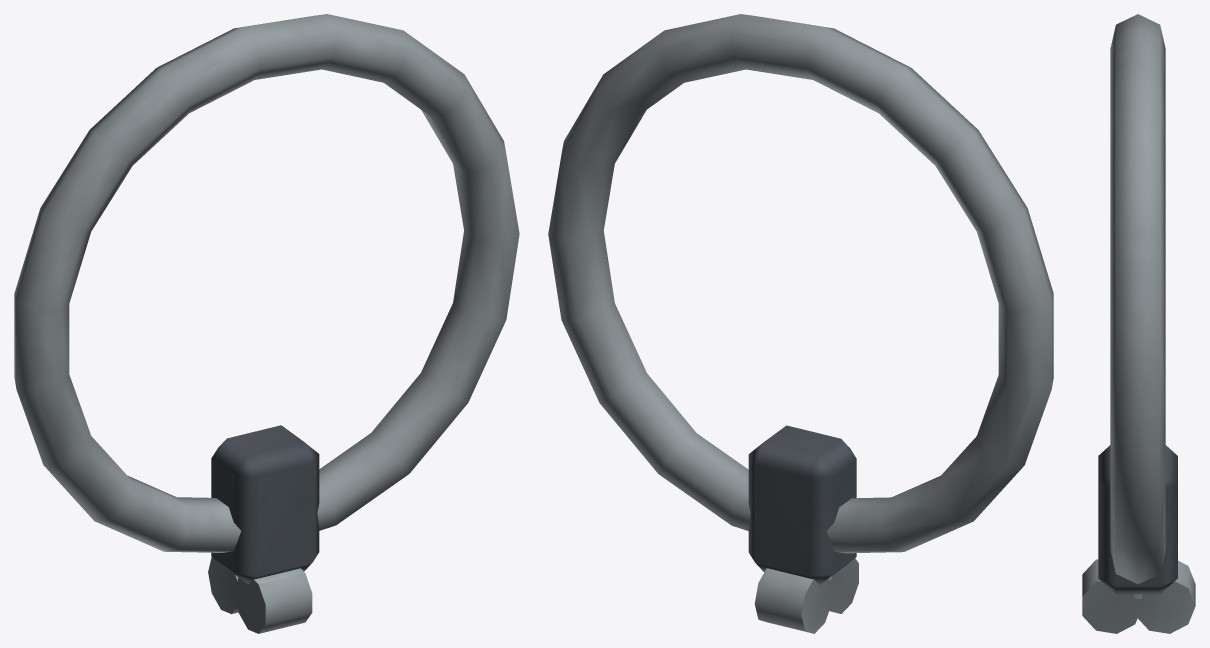
The model's file is curtain_ring_00.fbx.
3 views of the same model, side by side, from view 1: azimuth 30°, elevation 25°; view 2: azimuth 150°, elevation 25°; view 3: azimuth 270°, elevation 25° (orthographic).
Parts seen in each view (by area): view 1: SM_curtain_ring_00; view 2: SM_curtain_ring_00; view 3: SM_curtain_ring_00.
Part boxes in pixels (<box>): SM_curtain_ring_00: <box>14,14,519,633</box>; SM_curtain_ring_00: <box>548,14,1053,633</box>; SM_curtain_ring_00: <box>1082,14,1195,633</box>.
Bounding box in the file's own units: 0.0644 × 0.0727 × 0.0128.
3 materials, 3 textured.
